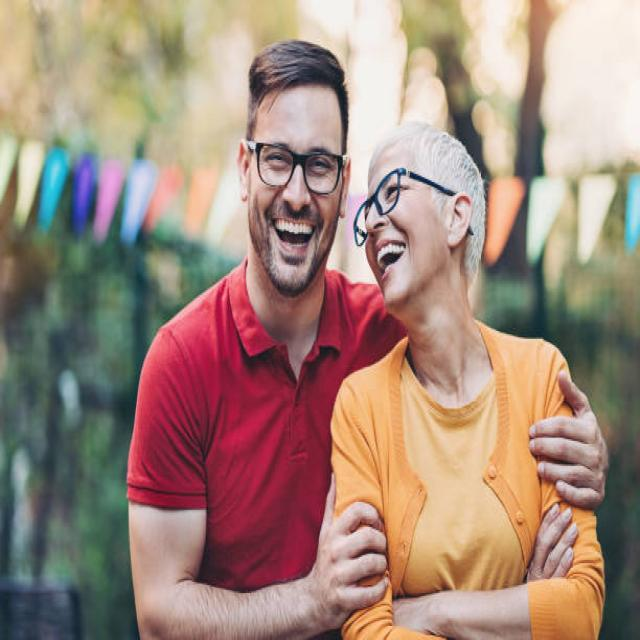Glasses: (352, 164, 454, 250), (250, 140, 349, 198)
